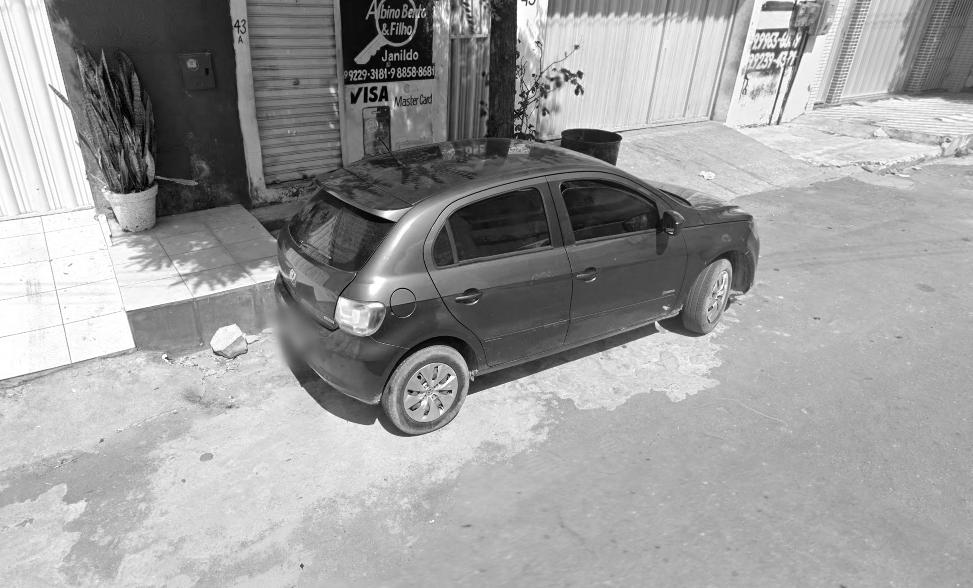car: (269, 132, 764, 438)
